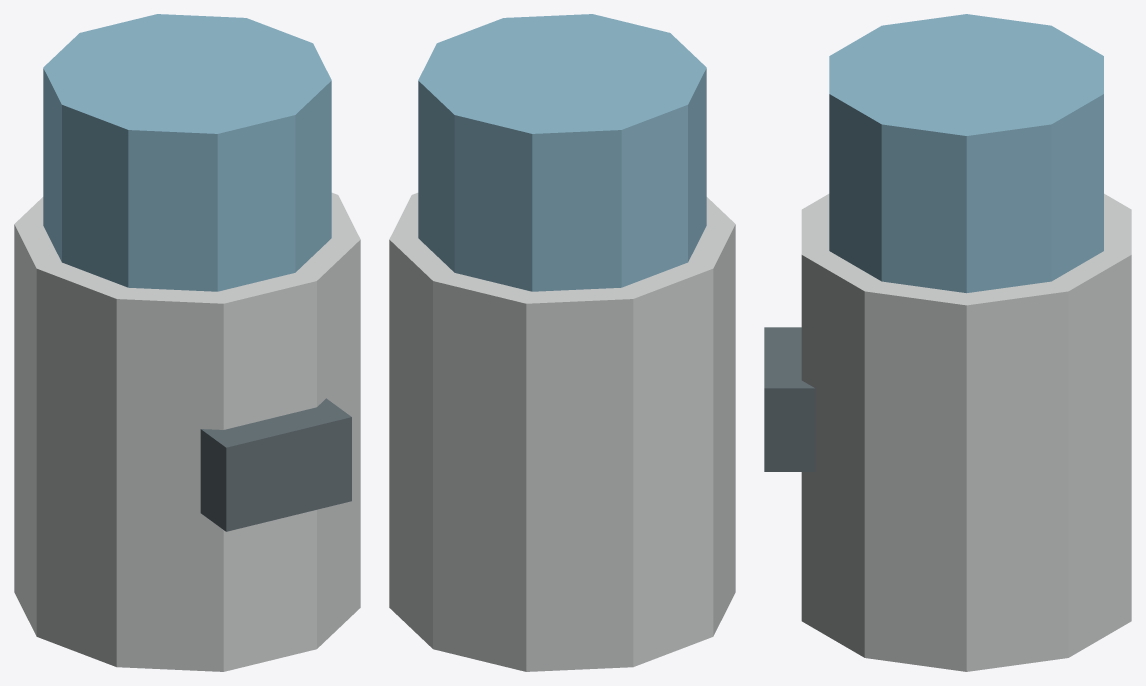
The model's file is water_dispenser.glb.
3 renders of one model, left to right at view 1: azimuth 30°, elevation 25°; view 2: azimuth 150°, elevation 25°; view 3: azimuth 270°, elevation 25°, orthographic.
Size of the model in its own units: 0.6 by 1 by 0.6353.
